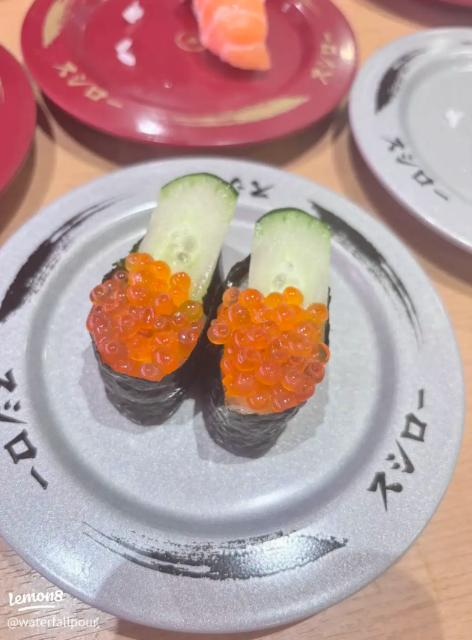janred: (16, 3, 330, 149), (0, 49, 31, 199)
janwhite: (0, 193, 431, 612), (342, 42, 472, 287)
